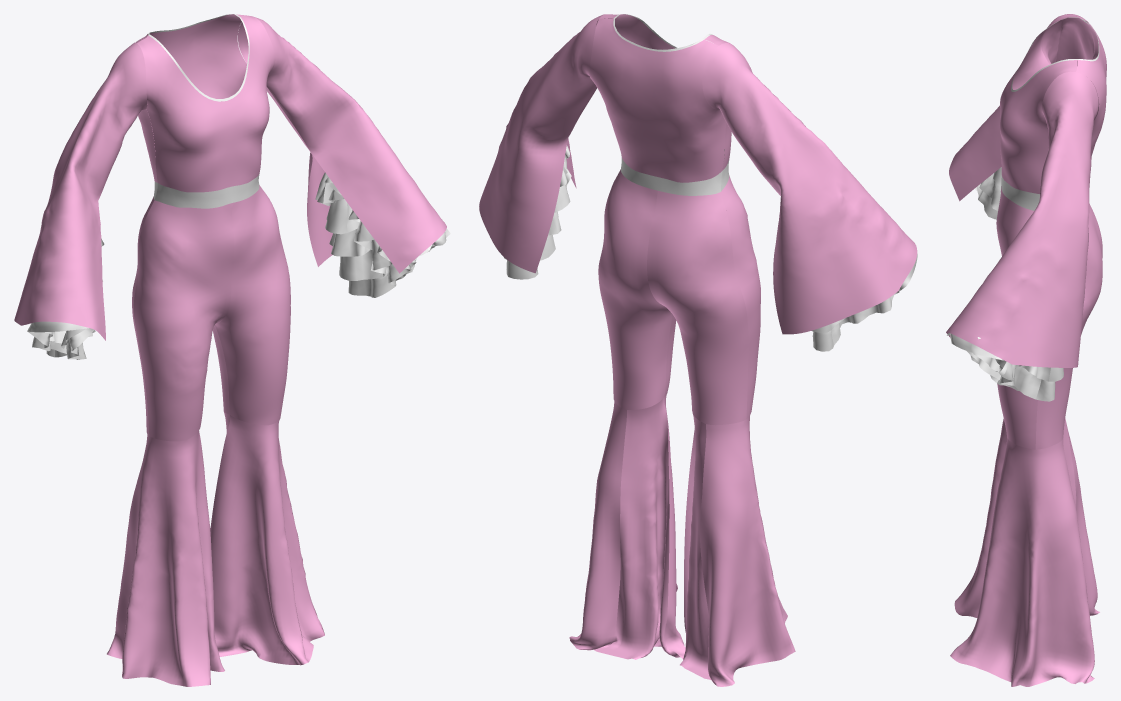
The model's file is Jumpsuit.glb.
3 renders of one model, left to right at view 1: azimuth 30°, elevation 25°; view 2: azimuth 150°, elevation 25°; view 3: azimuth 270°, elevation 25°, orthographic. The views are drawn at different scales.
Parts seen in each view (by area): view 1: Cloth; view 2: Cloth; view 3: Cloth.
Part boxes in pixels (x1=…): Cloth: x1=14, y1=14, x2=450, y2=686; Cloth: x1=479, y1=14, x2=917, y2=686; Cloth: x1=946, y1=14, x2=1106, y2=686.
Size of the model in its own units: 0.9188 by 1.32 by 0.3175.
3 materials, 3 textured.
